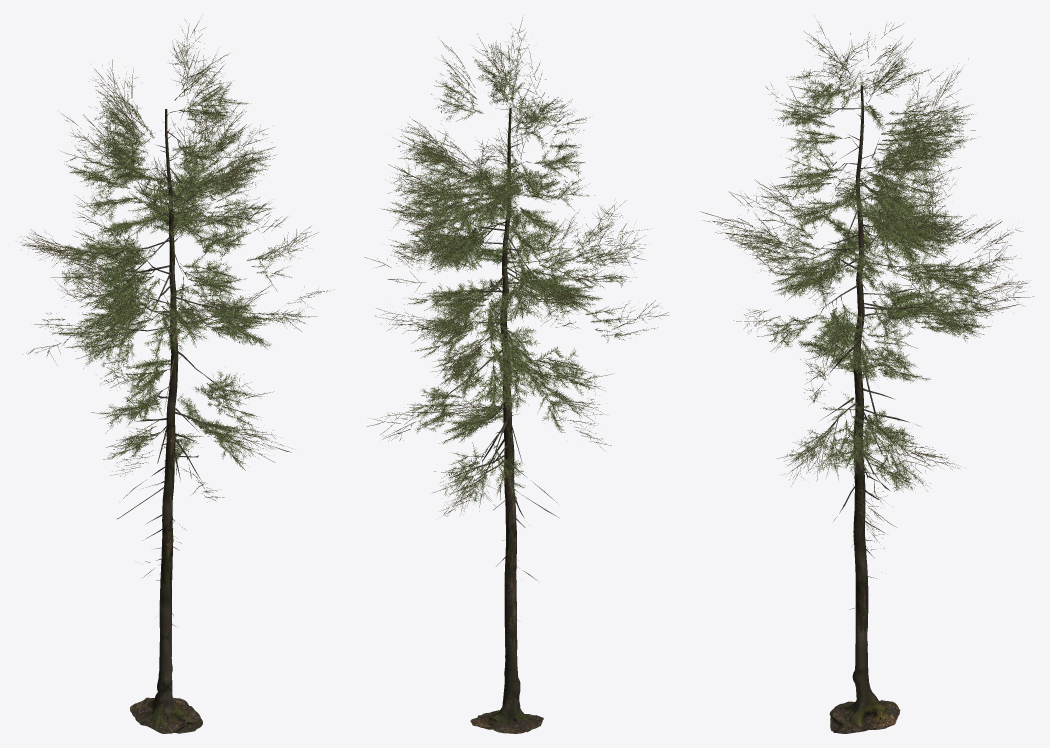
The model's file is fir_tree_01_near.gltf.
3 renders of one model, left to right at view 1: azimuth 30°, elevation 25°; view 2: azimuth 150°, elevation 25°; view 3: azimuth 270°, elevation 25°, orthographic. The views are drawn at different scales.
Visible parts, largest first — view 1: fir_tree_01_b; view 2: fir_tree_01_b; view 3: fir_tree_01_b.
Part boxes in pixels (box(x1,y1,x2,y2)): fir_tree_01_b: box(20, 17, 329, 733); fir_tree_01_b: box(364, 17, 669, 733); fir_tree_01_b: box(700, 21, 1033, 733).
Bounding box in the file's own units: 5.53 × 14.03 × 5.99.
Materials: 4 (4 with a texture image).
